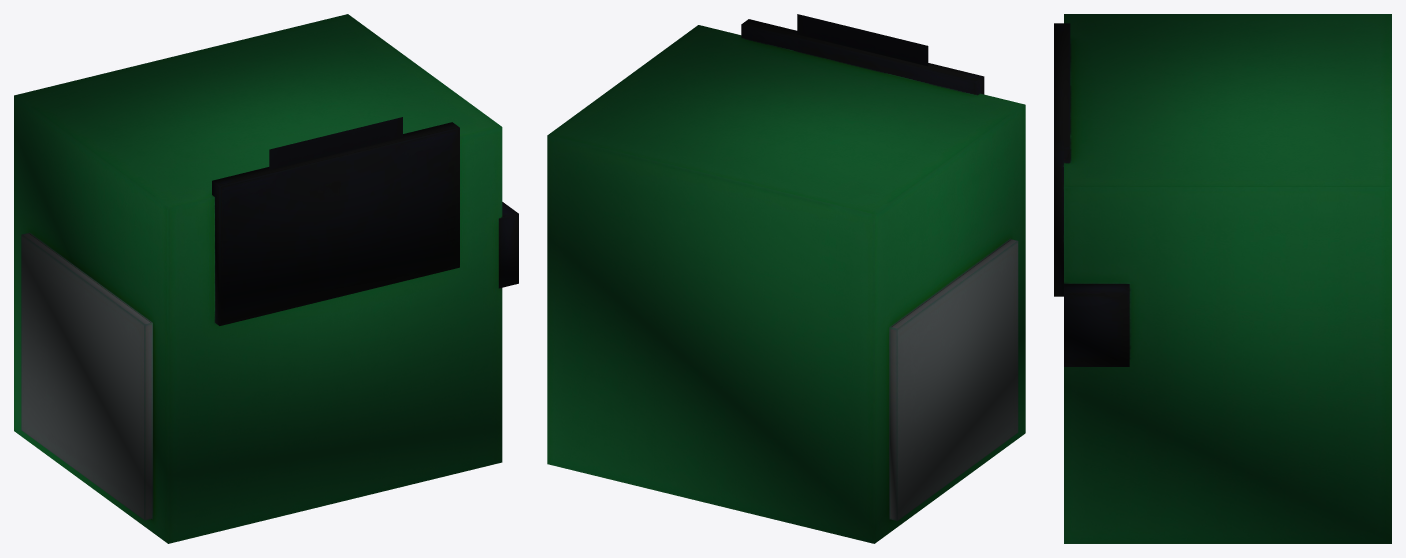
The model's file is yard-compactor-body-tripo-original.glb.
The picture shows the model from 3 angles, left to right: view 1: azimuth 30°, elevation 25°; view 2: azimuth 150°, elevation 25°; view 3: azimuth 270°, elevation 25°; orthographic projection. The views are drawn at different scales.
Parts seen in each view (by area): view 1: Authored_surface_024; view 2: Authored_surface_024; view 3: Authored_surface_024.
Boxes of the visible parts, x1=… form: Authored_surface_024: x1=14, y1=14, x2=518, y2=543; Authored_surface_024: x1=547, y1=14, x2=1025, y2=543; Authored_surface_024: x1=1054, y1=14, x2=1391, y2=543.
Size of the model in its own units: 1 by 0.987 by 0.7672.
Materials: 1 (1 with a texture image).
